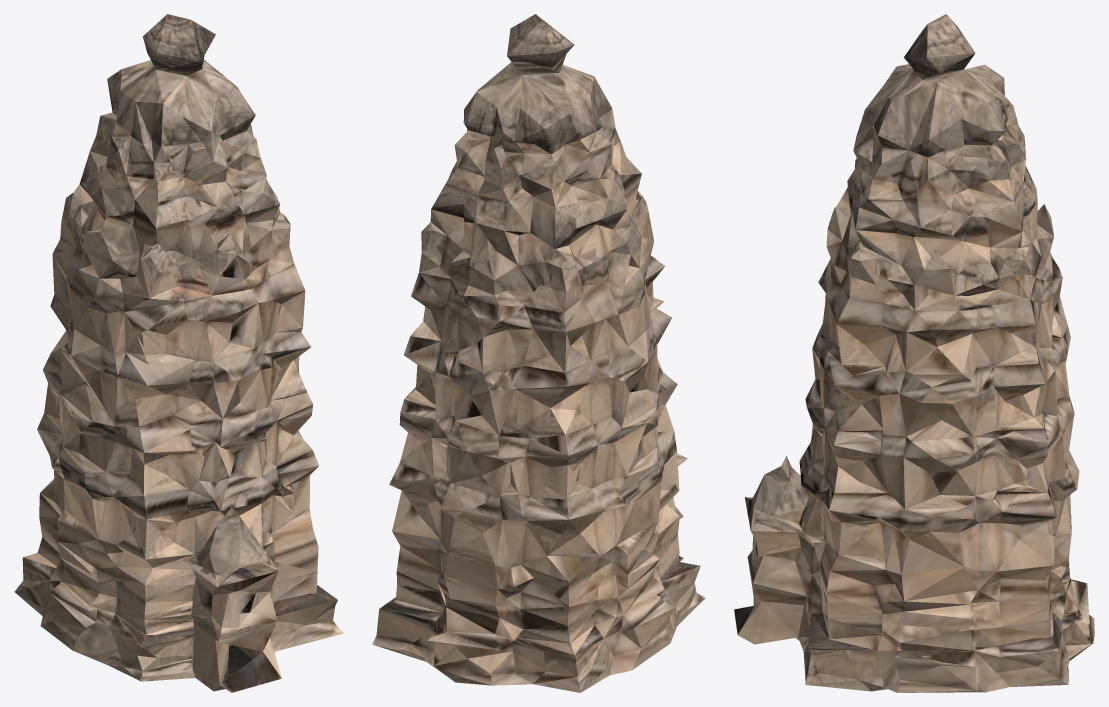
Rendered from jagannath_tower_low.glb.
3 renders of one model, left to right at view 1: azimuth 30°, elevation 25°; view 2: azimuth 150°, elevation 25°; view 3: azimuth 270°, elevation 25°, orthographic. The views are drawn at different scales.
Parts seen in each view (by area): view 1: m; view 2: m; view 3: m.
Boxes of the visible parts, <box> form: m: <box>14,14,343,692</box>; m: <box>372,14,705,692</box>; m: <box>734,14,1094,692</box>.
Size of the model in its own units: 24.78 by 60 by 31.5.
1 material, 1 textured.
